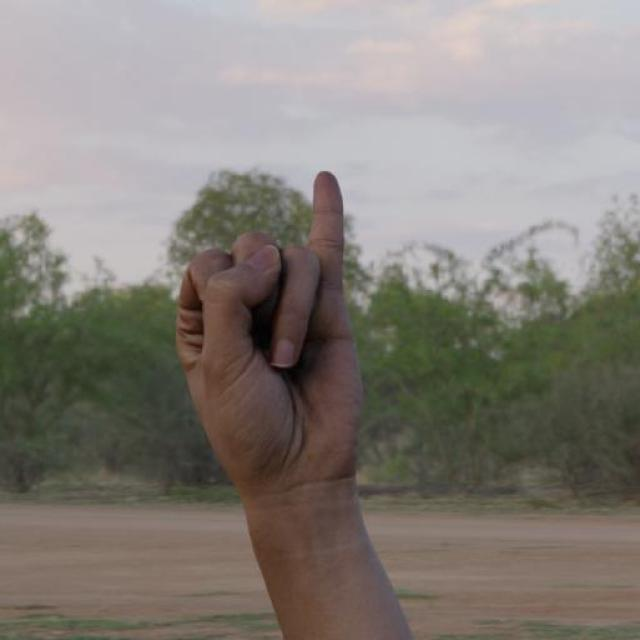I: (172, 168, 367, 501)
